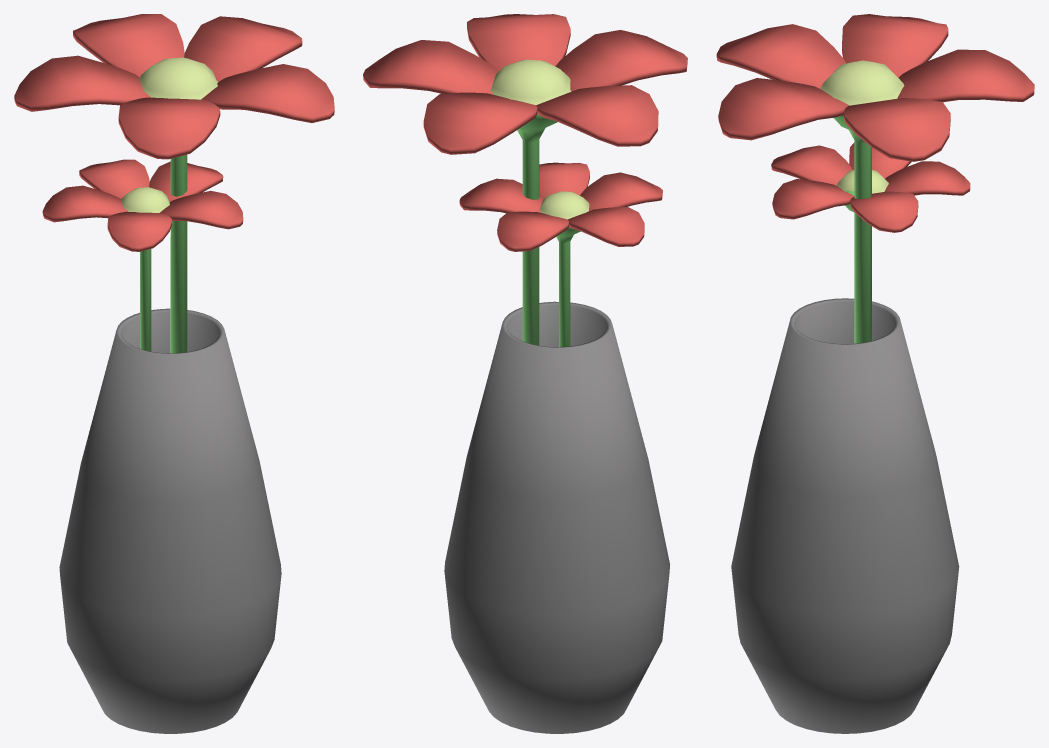
Rendered from Flowerpot.fbx.
3 views of the same model, side by side, from view 1: azimuth 30°, elevation 25°; view 2: azimuth 150°, elevation 25°; view 3: azimuth 270°, elevation 25° (orthographic). The views are drawn at different scales.
Parts seen in each view (by area): view 1: Stems; view 2: Stems; view 3: Stems.
Part boxes in pixels (x1,y1,x2,y2): Stems: [14, 14, 334, 733]; Stems: [363, 14, 687, 733]; Stems: [716, 14, 1034, 733].
Size of the model in its own units: 287 by 624 by 278.
